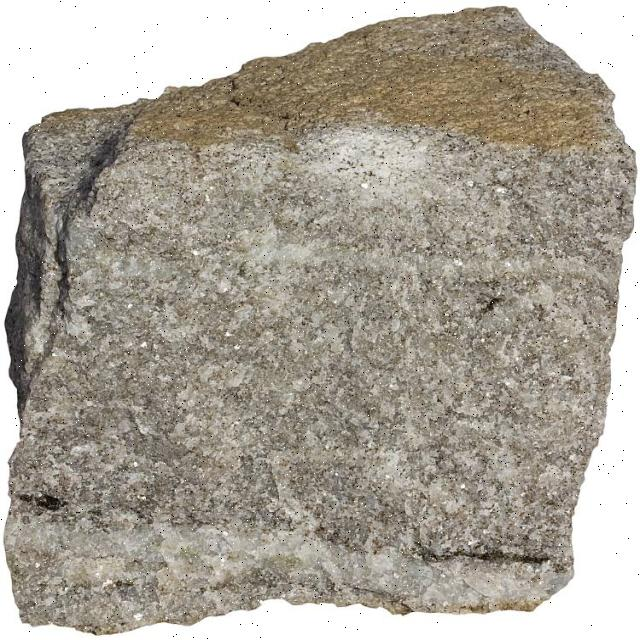Metamorphic: (4, 1, 616, 633)
